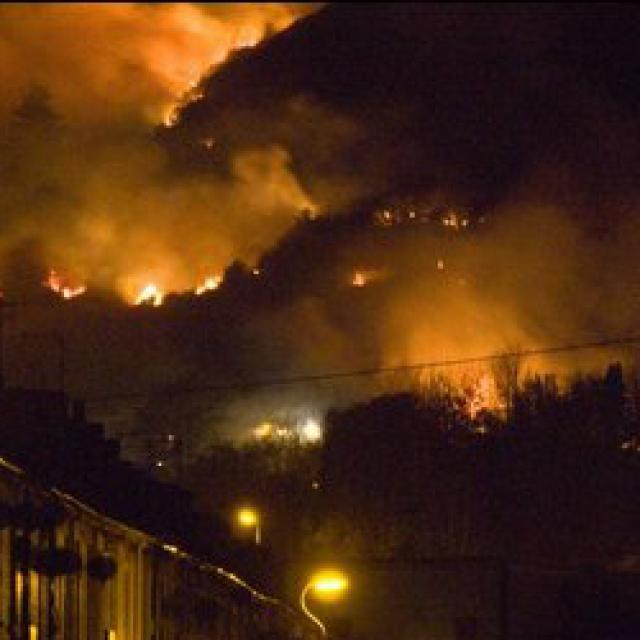Fire: (12, 225, 258, 348), (368, 298, 562, 414), (226, 378, 348, 454), (384, 176, 494, 244), (148, 63, 222, 151)
Smoke: (0, 0, 299, 242), (327, 161, 640, 358)
